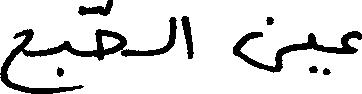X: (235, 12, 279, 77), (0, 24, 32, 93), (96, 0, 123, 65), (342, 26, 361, 58), (182, 11, 191, 63), (167, 12, 175, 56), (63, 36, 69, 93), (309, 28, 314, 77)
